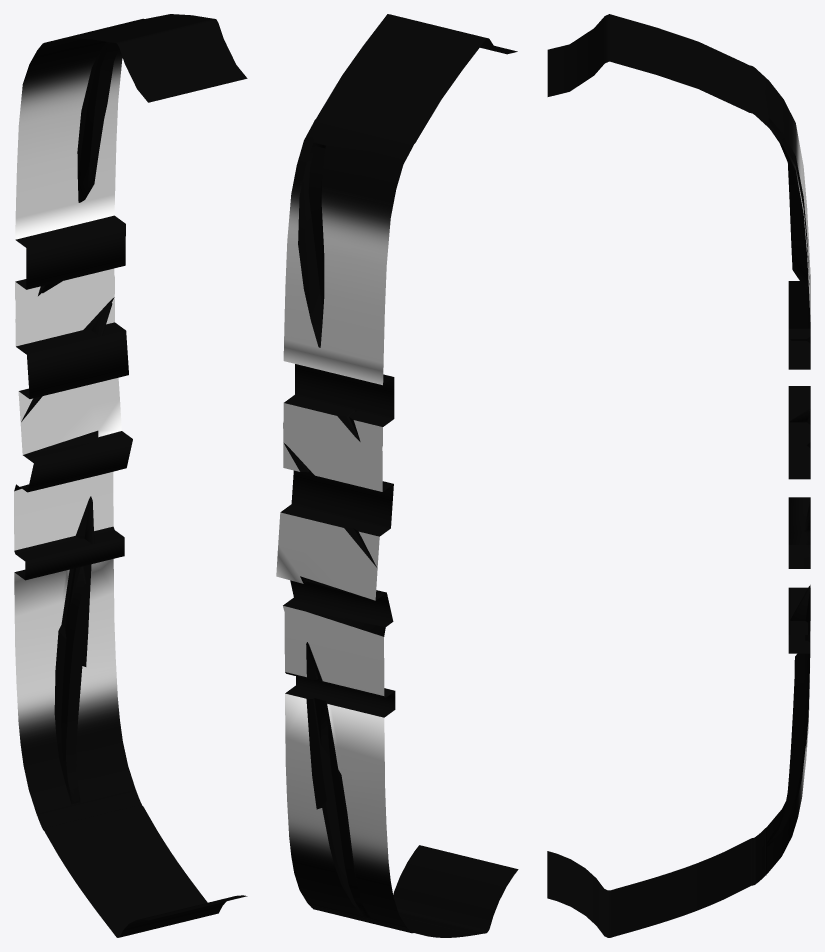
Rendered from tire_segmentY.glb.
The picture shows the model from 3 angles, left to right: view 1: azimuth 30°, elevation 25°; view 2: azimuth 150°, elevation 25°; view 3: azimuth 270°, elevation 25°; orthographic projection. The views are drawn at different scales.
Visible parts, largest first — view 1: Tire main.003; view 2: Tire main.003; view 3: Tire main.003.
Boxes of the visible parts, left/top/right/bottom form: Tire main.003: left=14, top=14, right=247, bottom=937; Tire main.003: left=276, top=14, right=518, bottom=937; Tire main.003: left=547, top=14, right=810, bottom=937.
Size of the model in its own units: 0.032 by 0.2536 by 0.0691.
Materials: 1 (1 with a texture image).
